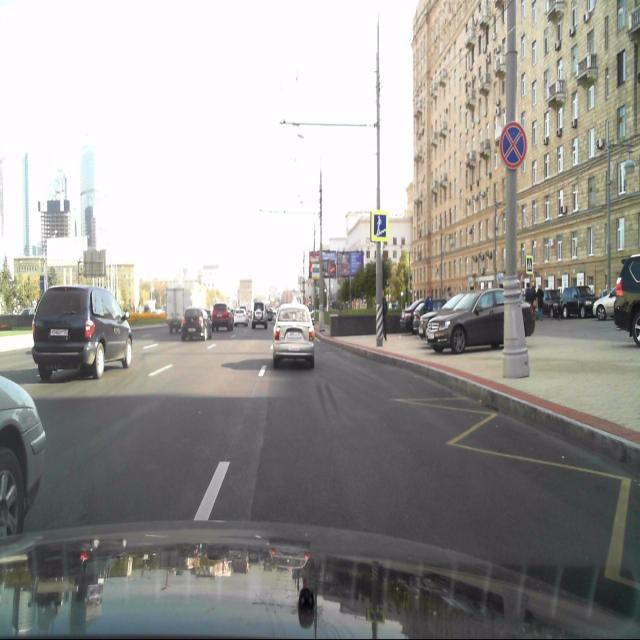road sign: (370, 211, 389, 243)
